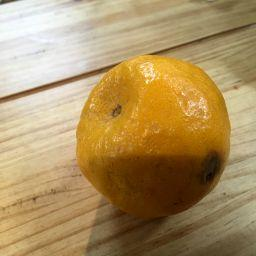Unripe: (77, 54, 233, 218)
